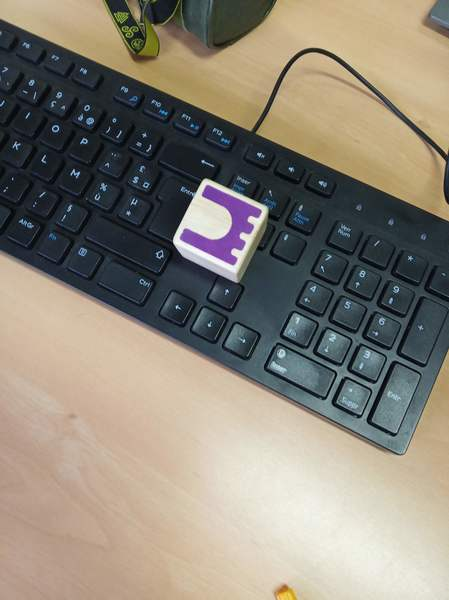violet: (175, 182, 272, 274)
